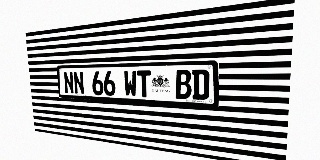6: (103, 71, 116, 96), (91, 71, 104, 95)
B: (175, 70, 191, 99)
D: (192, 69, 209, 100)
N: (73, 71, 84, 95), (63, 72, 74, 94)
T: (137, 70, 151, 97)
W: (123, 71, 137, 97)
